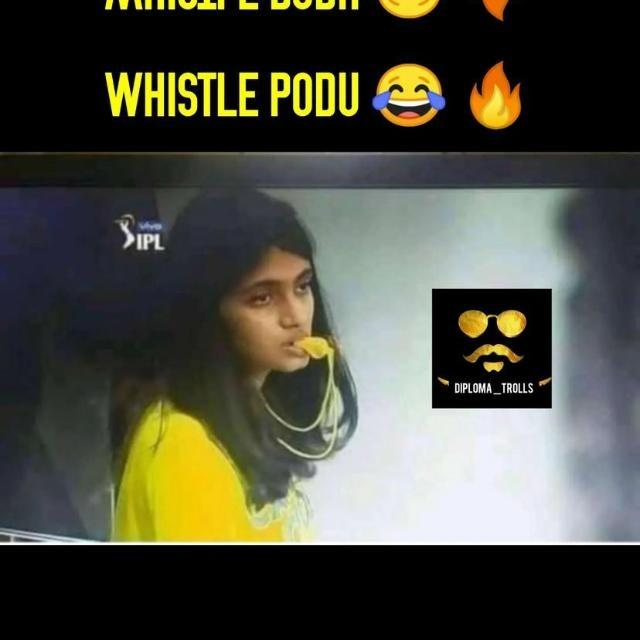person: (107, 152, 340, 596), (107, 600, 340, 640)
